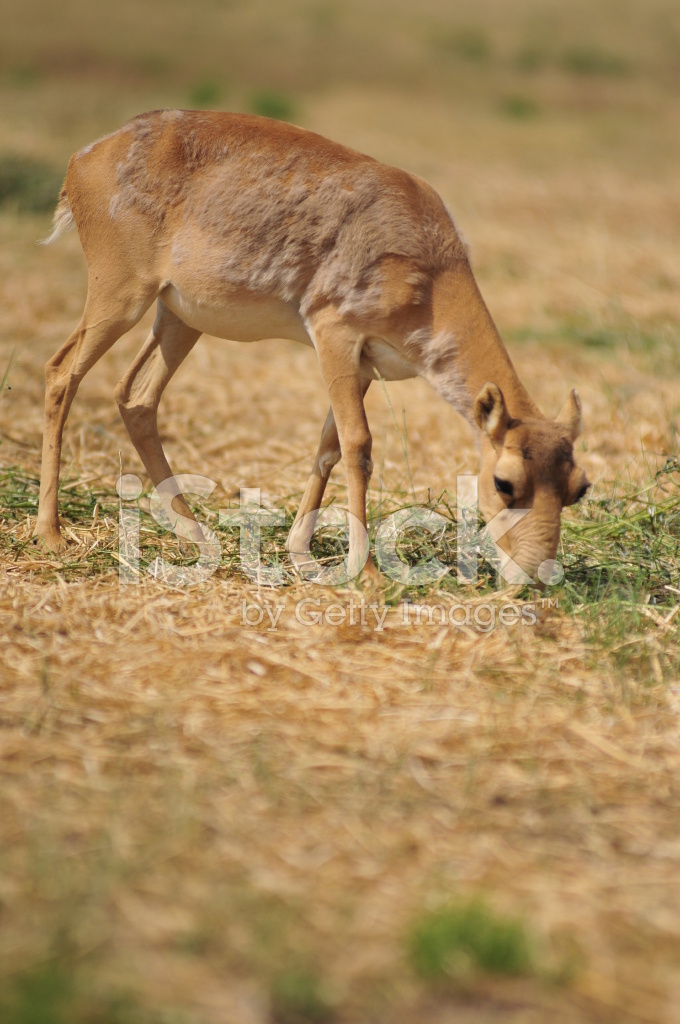saiga: (35, 100, 581, 617)
